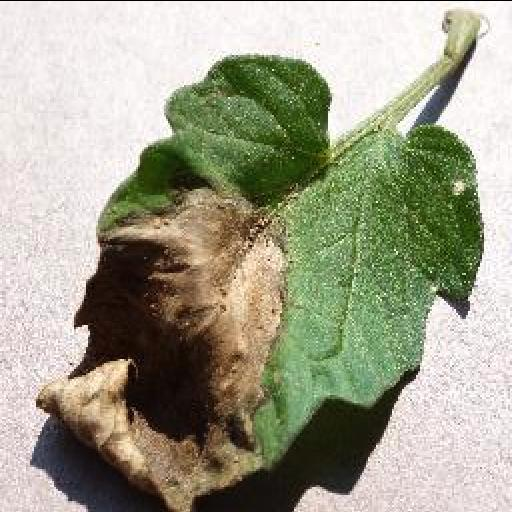disease_tomato: (34, 52, 488, 512)
